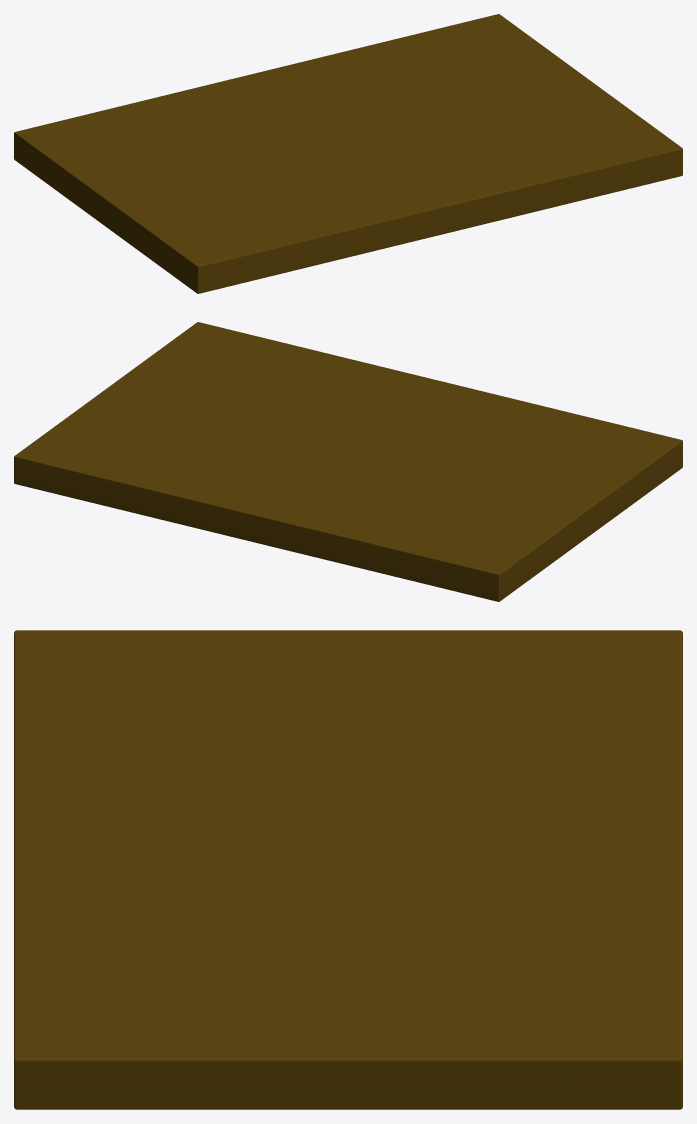
File: SM_MysteryBoxBase.fbx
3 renders of one model, top to bottom at view 1: azimuth 30°, elevation 25°; view 2: azimuth 150°, elevation 25°; view 3: azimuth 270°, elevation 25°, orthographic. The views are drawn at different scales.
Visible parts, largest first — view 1: SM_MysterBoxBase; view 2: SM_MysterBoxBase; view 3: SM_MysterBoxBase.
Boxes of the visible parts, x1=… form: SM_MysterBoxBase: x1=14, y1=14, x2=682, y2=293; SM_MysterBoxBase: x1=14, y1=322, x2=682, y2=601; SM_MysterBoxBase: x1=14, y1=630, x2=682, y2=1109.
Size of the model in its own units: 60.06 by 3.33 by 39.46.
